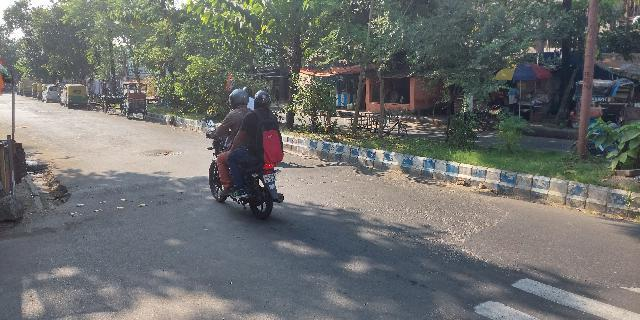Autorickshaw: (64, 79, 89, 111)
Motorbike: (203, 85, 285, 224)
Rickshaw: (118, 80, 151, 123)
